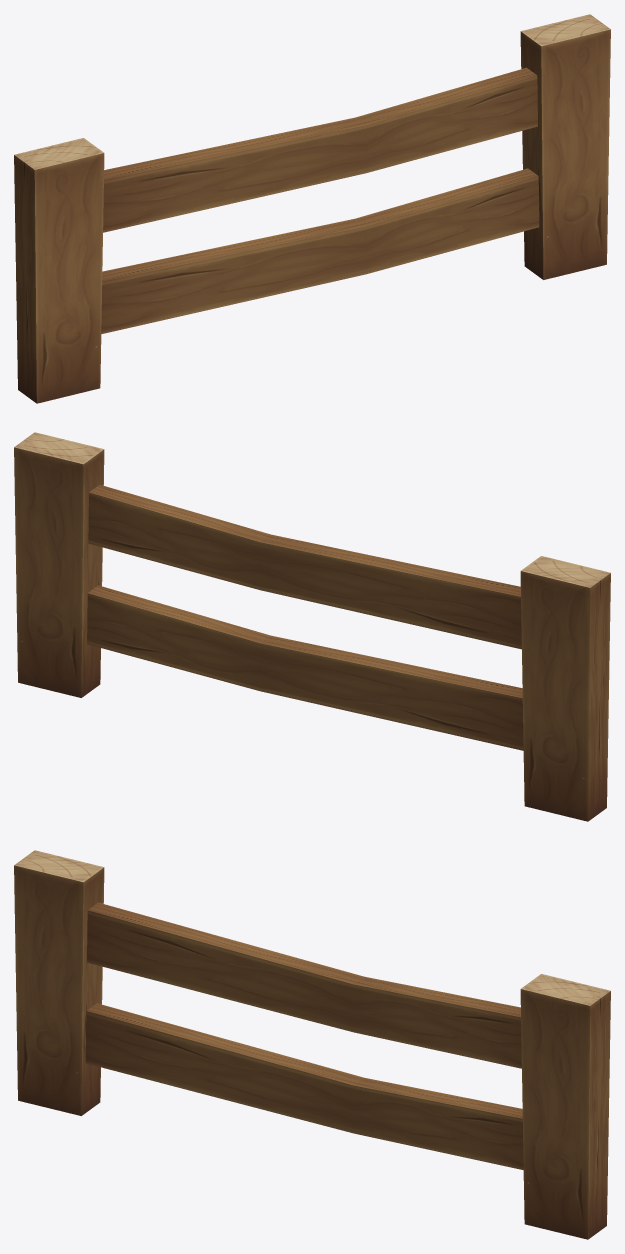
Rendered from wooden_fence_06.fbx.
The picture shows the model from 3 angles, top to bottom: view 1: azimuth 30°, elevation 25°; view 2: azimuth 150°, elevation 25°; view 3: azimuth 330°, elevation 25°; orthographic projection.
Visible parts, largest first — view 1: wooden_fence_06:Mesh; view 2: wooden_fence_06:Mesh; view 3: wooden_fence_06:Mesh.
Boxes of the visible parts, box(x1,y1,x2,y2) form: wooden_fence_06:Mesh: box(14, 14, 610, 403); wooden_fence_06:Mesh: box(14, 432, 610, 821); wooden_fence_06:Mesh: box(14, 850, 610, 1239).
Bounding box in the file's own units: 7.11 × 2.77 × 0.4428.
